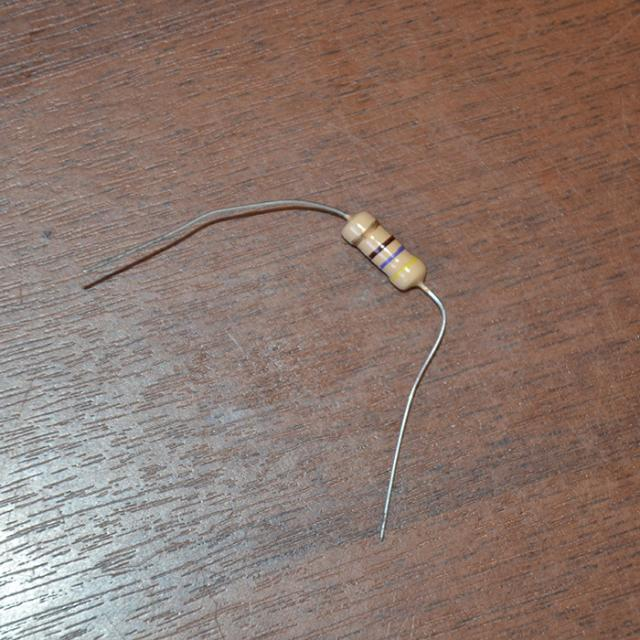brown: (368, 234, 395, 258)
gold: (353, 220, 380, 246)
resistor: (321, 196, 440, 305)
violet: (379, 245, 405, 268)
yellow: (391, 256, 416, 281)
